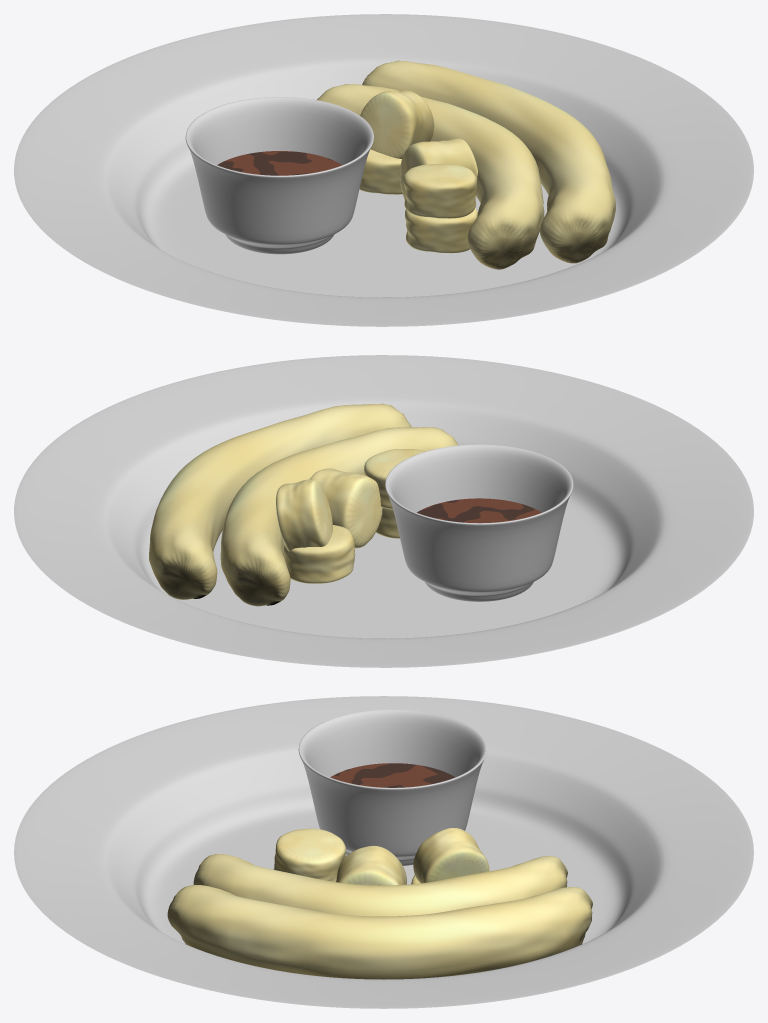
The model's file is kerupukbasah.fbx.
The picture shows the model from 3 angles, top to bottom: view 1: azimuth 30°, elevation 25°; view 2: azimuth 150°, elevation 25°; view 3: azimuth 270°, elevation 25°; orthographic projection.
Visible parts, largest first — view 1: Plate, bowl, kbasah, kbasah.001, kbasah.006, kbasah.002, kbasah.005, ksaos, kbasah.003, kbasah.004; view 2: Plate, bowl, kbasah, kbasah.001, kbasah.003, kbasah.002, kbasah.004, ksaos, kbasah.006; view 3: Plate, kbasah, bowl, kbasah.001, kbasah.006, kbasah.002, kbasah.003, ksaos.
Boxes of the visible parts, box(x1,y1,x2,y2) form: Plate: box(14, 14, 753, 326); bowl: box(185, 97, 373, 254); kbasah: box(362, 60, 615, 263); kbasah.001: box(317, 84, 544, 269); kbasah.006: box(403, 164, 476, 218); kbasah.002: box(360, 90, 434, 158); kbasah.005: box(405, 208, 477, 253); ksaos: box(217, 151, 342, 175); kbasah.003: box(400, 138, 477, 199); kbasah.004: box(359, 149, 402, 194); Plate: box(14, 355, 753, 667); bowl: box(385, 444, 573, 601); kbasah: box(149, 403, 411, 599); kbasah.001: box(220, 427, 458, 606); kbasah.003: box(310, 468, 382, 548); kbasah.002: box(276, 479, 332, 551); kbasah.004: box(283, 525, 355, 583); ksaos: box(417, 498, 541, 523); kbasah.006: box(364, 449, 425, 508); Plate: box(14, 696, 753, 1008); kbasah: box(167, 885, 592, 979); bowl: box(298, 709, 486, 865); kbasah.001: box(193, 854, 567, 916); kbasah.006: box(274, 828, 345, 881); kbasah.002: box(413, 828, 489, 883); kbasah.003: box(336, 845, 406, 885); ksaos: box(330, 763, 455, 787).
Size of the model in its own units: 82.21 by 12.94 by 82.21.
Materials: 4 (3 with a texture image).
